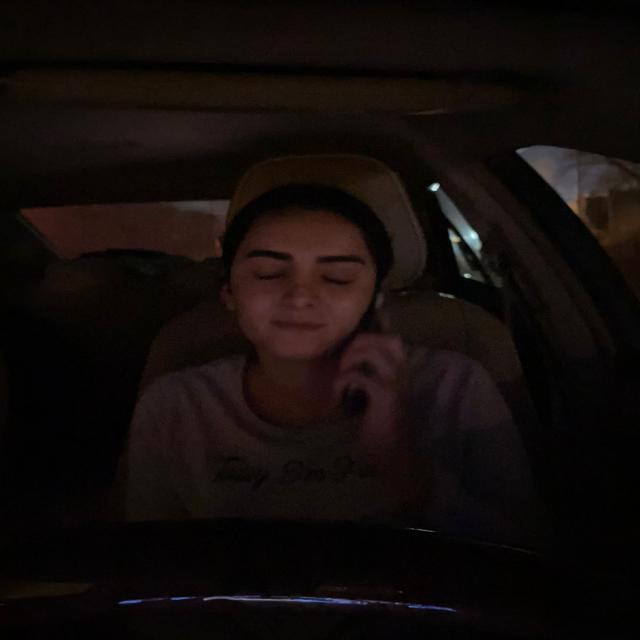drowsy: (215, 177, 409, 368)
